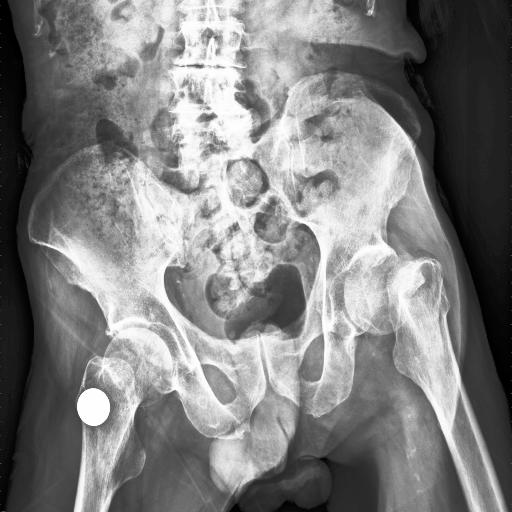neck: (386, 257, 474, 421), (344, 251, 425, 335)
normal: (73, 327, 173, 512)
